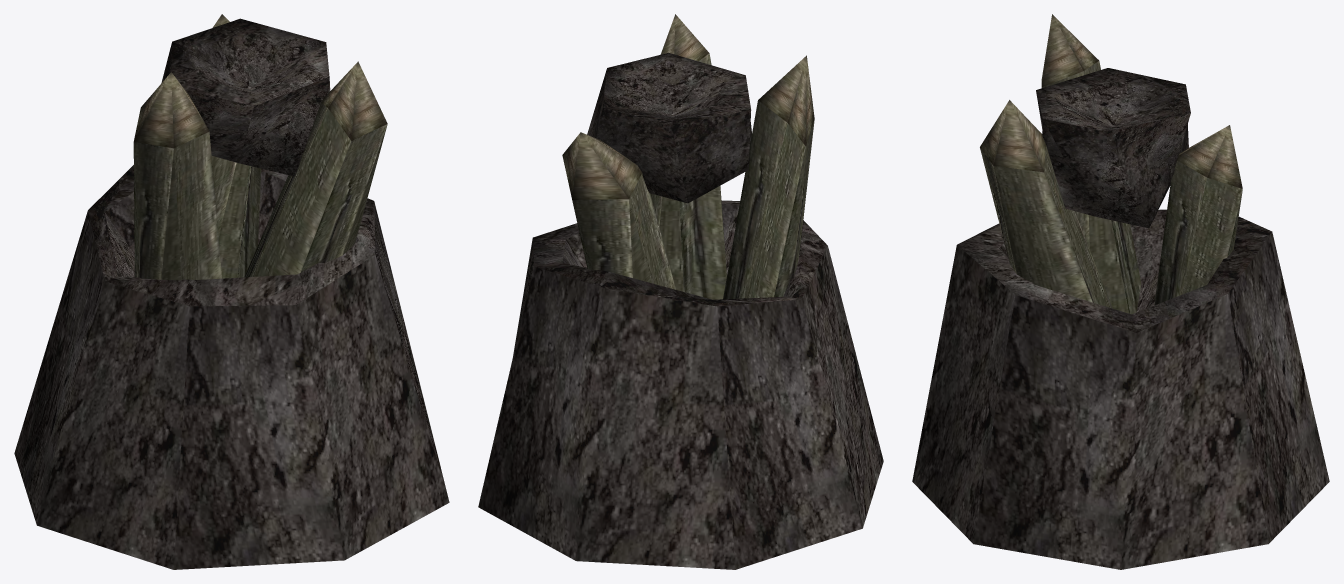
The model's file is ORC_STANDING_LAMP.glb.
3 renders of one model, left to right at view 1: azimuth 30°, elevation 25°; view 2: azimuth 150°, elevation 25°; view 3: azimuth 270°, elevation 25°, orthographic. The views are drawn at different scales.
Visible parts, largest first — view 1: Mesh; view 2: Mesh; view 3: Mesh.
Part boxes in pixels (bbox=[...]): Mesh: bbox=[14, 14, 449, 569]; Mesh: bbox=[478, 14, 883, 569]; Mesh: bbox=[912, 14, 1329, 569].
Size of the model in its own units: 1.82 by 2.04 by 1.82.
3 materials, 3 textured.
